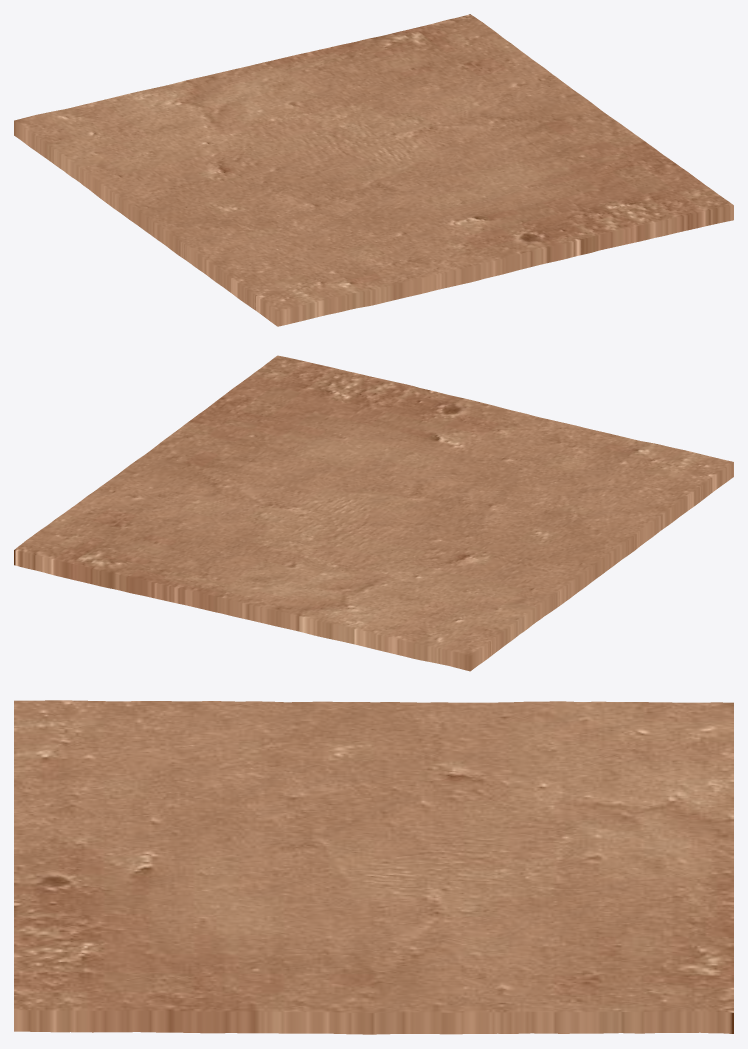
3 renders of one model, top to bottom at view 1: azimuth 30°, elevation 25°; view 2: azimuth 150°, elevation 25°; view 3: azimuth 270°, elevation 25°, orthographic. The views are drawn at different scales.
Parts seen in each view (by area): view 1: L6_40_12; view 2: L6_40_12; view 3: L6_40_12.
Part boxes in pixels (<box>): L6_40_12: <box>14,14,733,326</box>; L6_40_12: <box>14,355,733,671</box>; L6_40_12: <box>14,700,733,1034</box>.
Bounding box in the file's own units: 225 × 10.44 × 225.
Materials: 1 (1 with a texture image).
